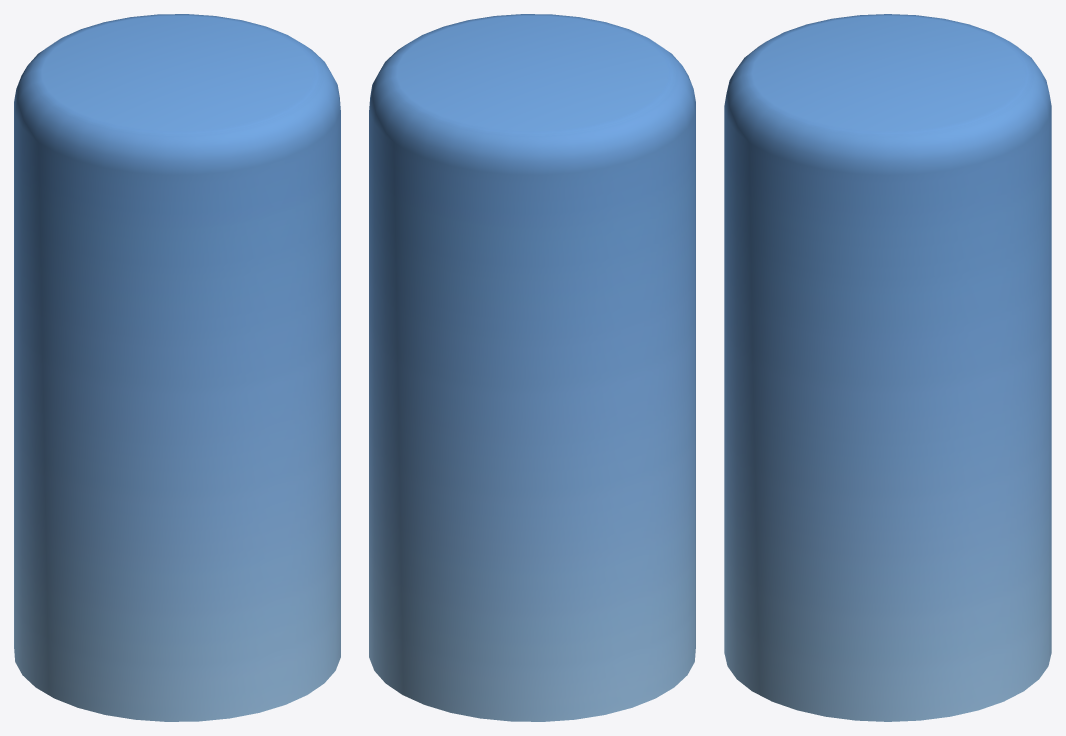
The model's file is SM_Onboarding_Cylinder_01.fbx.
The picture shows the model from 3 angles, left to right: view 1: azimuth 30°, elevation 25°; view 2: azimuth 150°, elevation 25°; view 3: azimuth 270°, elevation 25°; orthographic projection.
Parts seen in each view (by area): view 1: SM_Onboarding_Cylinder_01; view 2: SM_Onboarding_Cylinder_01; view 3: SM_Onboarding_Cylinder_01.
Part boxes in pixels (box(x1,y1,x2,y2)): SM_Onboarding_Cylinder_01: box(14, 14, 340, 721); SM_Onboarding_Cylinder_01: box(369, 14, 695, 721); SM_Onboarding_Cylinder_01: box(724, 14, 1051, 721).
Bounding box in the file's own units: 1.08 × 2.1 × 1.08.
